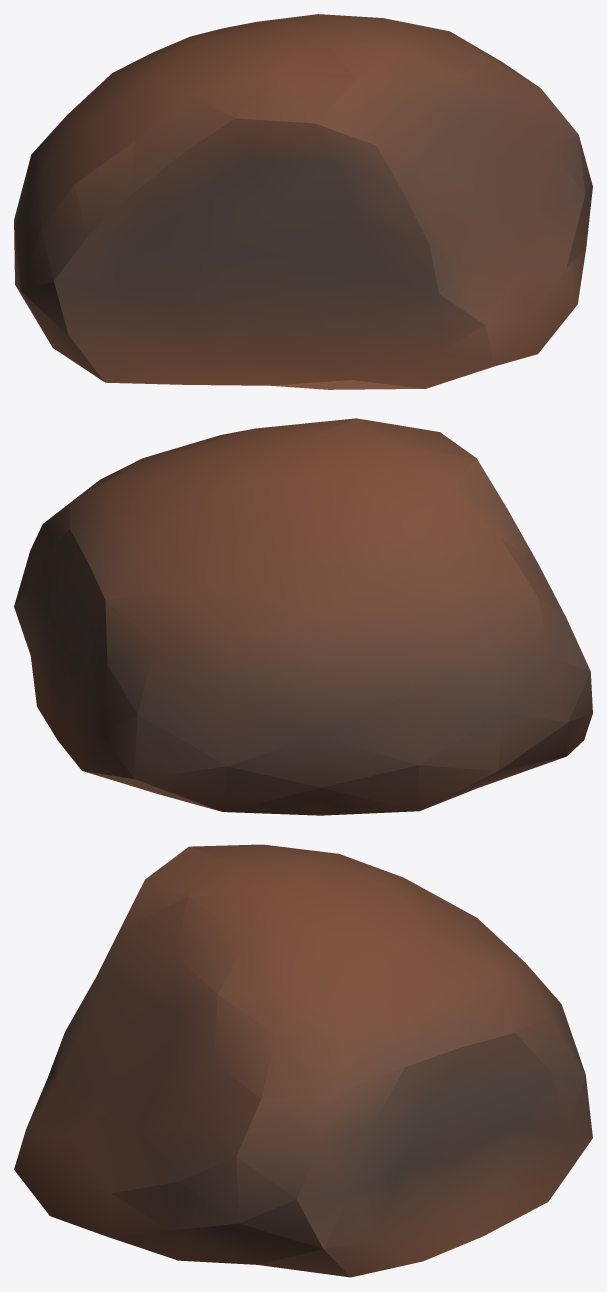
Rendered from rock_small_01.glb.
The picture shows the model from 3 angles, top to bottom: view 1: azimuth 30°, elevation 25°; view 2: azimuth 150°, elevation 25°; view 3: azimuth 270°, elevation 25°; orthographic projection. The views are drawn at different scales.
Visible parts, largest first — view 1: rock; view 2: rock; view 3: rock.
Boxes of the visible parts, left/top/right/bottom form: rock: left=14, top=14, right=592, bottom=389; rock: left=14, top=418, right=592, bottom=815; rock: left=14, top=844, right=592, bottom=1277.
Size of the model in its own units: 0.28 by 0.1277 by 0.2482.
